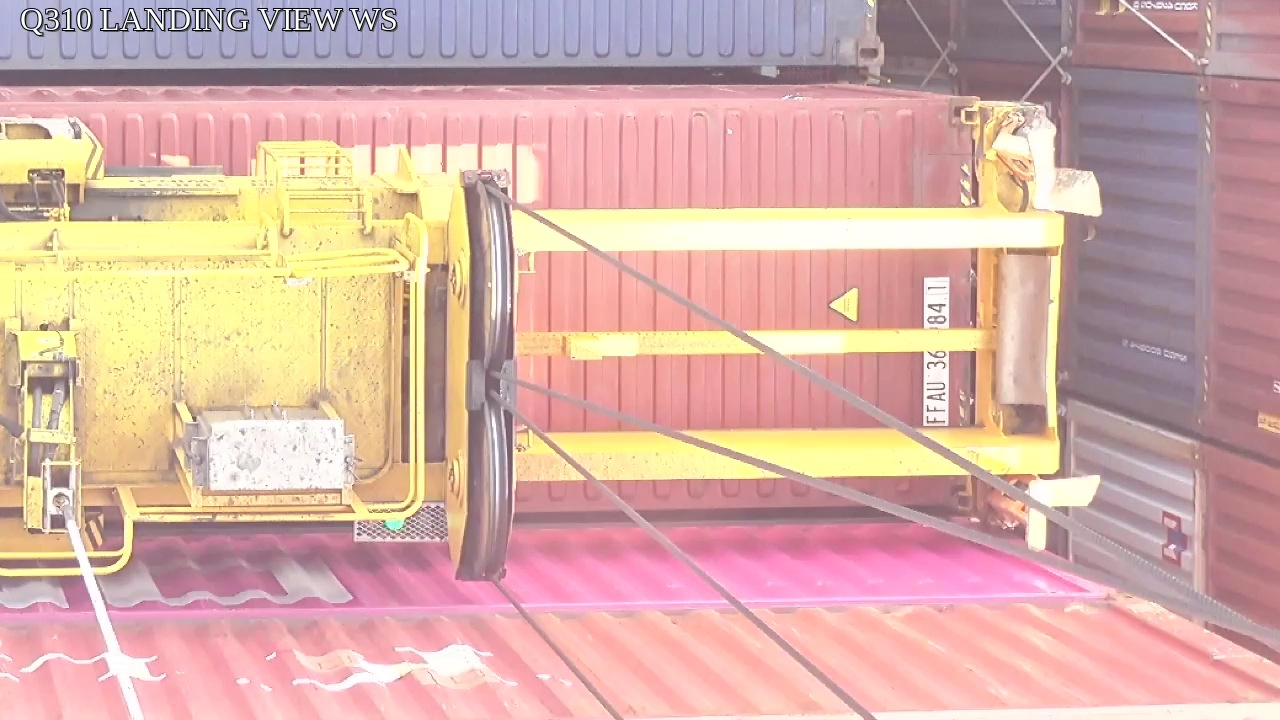right: (443, 170, 517, 585)
